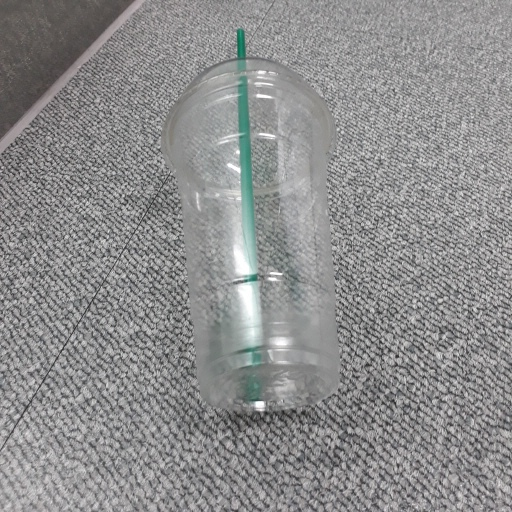Plastic_2: (155, 25, 346, 419)
